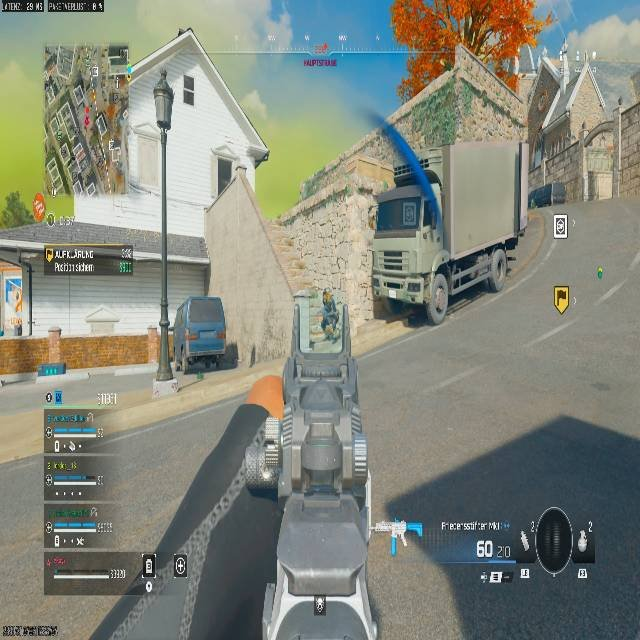player: (320, 288, 339, 340)
